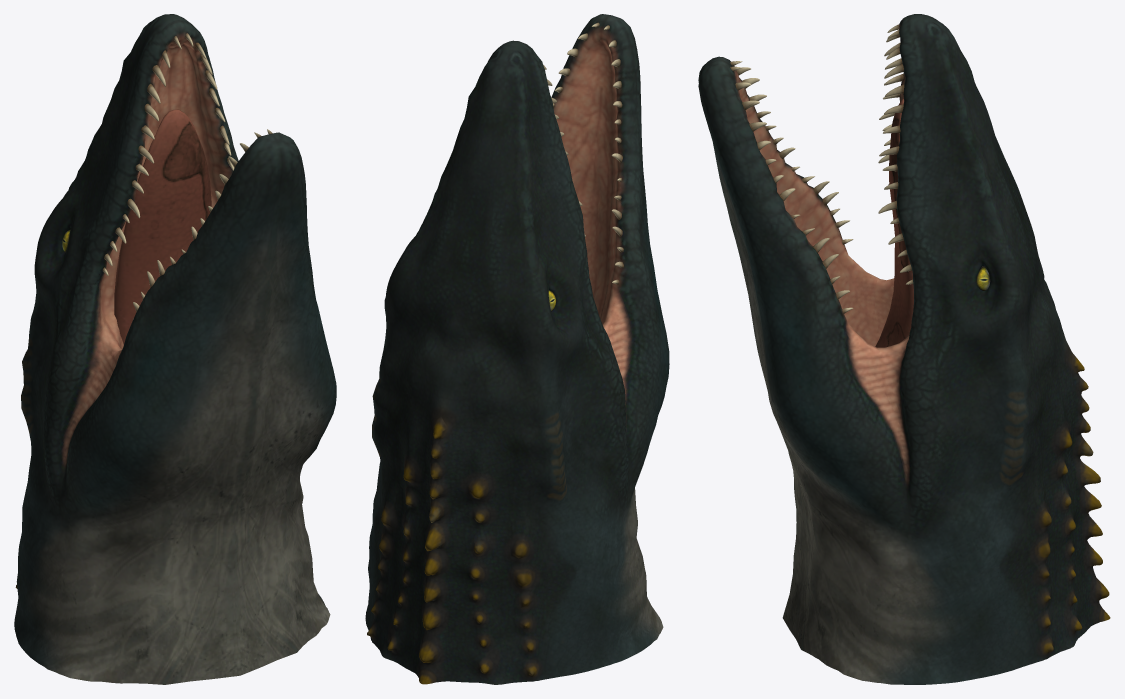
File: dinosaur-transformed.glb
3 views of the same model, side by side, from view 1: azimuth 30°, elevation 25°; view 2: azimuth 150°, elevation 25°; view 3: azimuth 270°, elevation 25° (orthographic). The views are drawn at different scales.
Visible parts, largest first — view 1: Object_7, Object_9; view 2: Object_7; view 3: Object_7, Object_9.
Boxes of the visible parts, x1=… form: Object_7: x1=14, y1=14, x2=336, y2=684; Object_9: x1=114, y1=109, x2=211, y2=344; Object_7: x1=365, y1=14, x2=669, y2=684; Object_7: x1=698, y1=14, x2=1110, y2=684; Object_9: x1=875, y1=99, x2=913, y2=347.
Size of the model in its own units: 175 by 366 by 227.
1 material, 1 textured.
